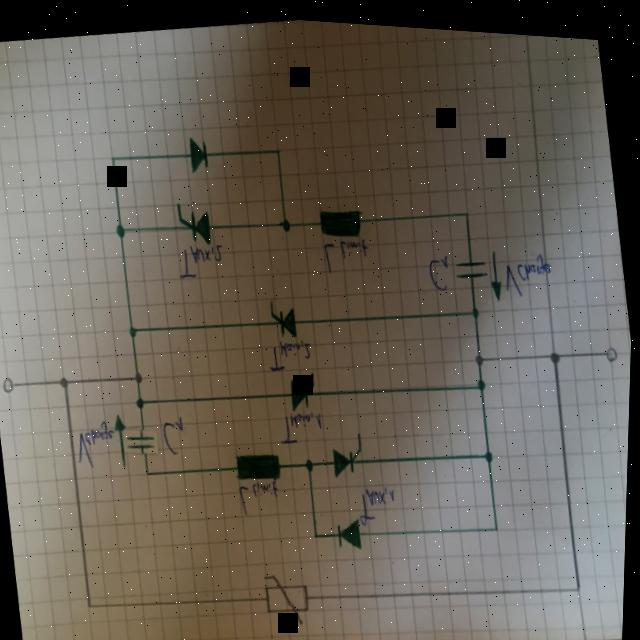capacitor: (127, 422, 161, 458), (454, 249, 492, 280)
diode: (186, 131, 212, 174), (338, 512, 367, 549)
inductor: (235, 443, 287, 484), (319, 200, 368, 239)
junction: (549, 342, 564, 360), (305, 453, 318, 471), (281, 214, 294, 231), (116, 221, 128, 239), (134, 369, 147, 385), (475, 346, 488, 362), (477, 371, 489, 387), (60, 376, 73, 390), (486, 443, 497, 459), (136, 395, 148, 409), (472, 300, 483, 315), (129, 324, 140, 338), (577, 575, 586, 587), (146, 467, 155, 478), (109, 153, 118, 163), (89, 601, 98, 610), (315, 527, 323, 537), (275, 144, 282, 153), (465, 204, 472, 213), (496, 519, 503, 528)
terminal: (2, 376, 19, 396), (605, 337, 621, 357)
text: (502, 242, 557, 295), (75, 417, 121, 472), (176, 239, 229, 281), (323, 232, 374, 273), (278, 405, 327, 445), (267, 333, 317, 372), (358, 480, 402, 523), (239, 475, 284, 516), (161, 411, 191, 457), (427, 247, 453, 289)
thyristor: (175, 196, 216, 248), (331, 435, 370, 477), (289, 367, 321, 411), (270, 293, 301, 338)
